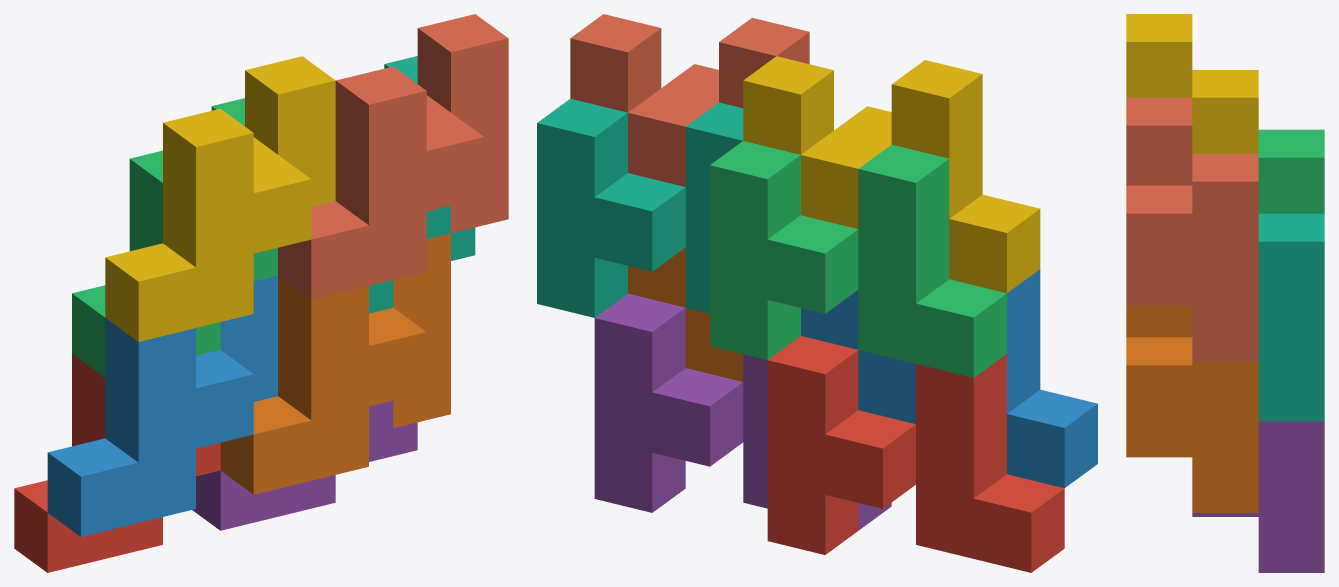
File: tiling.obj
The picture shows the model from 3 angles, left to right: view 1: azimuth 30°, elevation 25°; view 2: azimuth 150°, elevation 25°; view 3: azimuth 270°, elevation 25°; orthographic projection.
Parts seen in each view (by area): view 1: copy_1_domain_8, copy_1_domain_4, copy_1_domain_6, copy_1_domain_2, copy_1_domain_1, copy_1_domain_3, copy_1_domain_5, copy_1_domain_7; view 2: copy_1_domain_3, copy_1_domain_1, copy_1_domain_4, copy_1_domain_7, copy_1_domain_5, copy_1_domain_8, copy_1_domain_2, copy_1_domain_6; view 3: copy_1_domain_8, copy_1_domain_6, copy_1_domain_7, copy_1_domain_4, copy_1_domain_5, copy_1_domain_3.
Part boxes in pixels (<box>): copy_1_domain_8: <box>278,14,508,299</box>; copy_1_domain_4: <box>105,56,335,341</box>; copy_1_domain_6: <box>220,233,450,494</box>; copy_1_domain_2: <box>47,275,277,536</box>; copy_1_domain_1: <box>14,354,220,572</box>; copy_1_domain_3: <box>72,98,277,377</box>; copy_1_domain_5: <box>192,400,417,530</box>; copy_1_domain_7: <box>369,56,475,313</box>; copy_1_domain_3: <box>710,141,1006,377</box>; copy_1_domain_1: <box>767,336,1064,572</box>; copy_1_domain_4: <box>743,56,1040,293</box>; copy_1_domain_7: <box>537,98,743,317</box>; copy_1_domain_5: <box>594,293,891,530</box>; copy_1_domain_8: <box>570,14,809,186</box>; copy_1_domain_2: <box>801,269,1097,488</box>; copy_1_domain_6: <box>628,247,743,381</box>; copy_1_domain_8: <box>1126,97,1258,361</box>; copy_1_domain_6: <box>1126,305,1258,512</box>; copy_1_domain_7: <box>1258,213,1324,421</box>; copy_1_domain_4: <box>1126,14,1258,153</box>; copy_1_domain_5: <box>1192,421,1324,572</box>; copy_1_domain_3: <box>1258,129,1324,213</box>.
Size of the model in its own units: 8 by 7 by 3.
